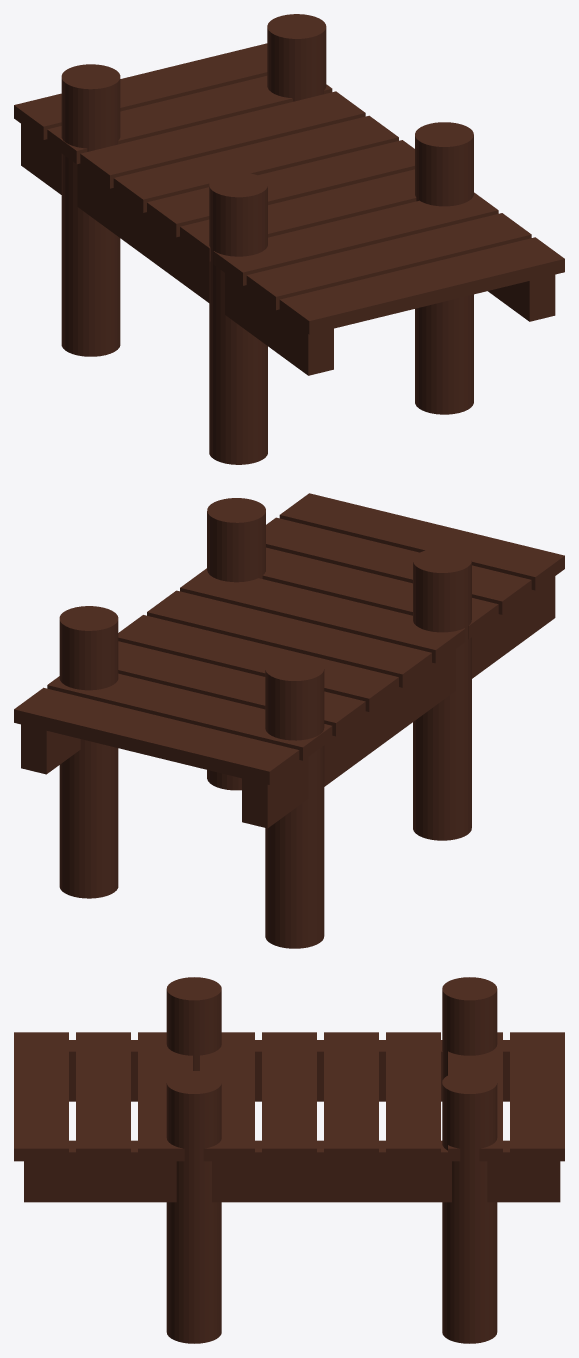
The model's file is Dock.fbx.
3 renders of one model, top to bottom at view 1: azimuth 30°, elevation 25°; view 2: azimuth 150°, elevation 25°; view 3: azimuth 270°, elevation 25°, orthographic. The views are drawn at different scales.
Visible parts, largest first — view 1: Dock; view 2: Dock; view 3: Dock.
Boxes of the visible parts, x1=… form: Dock: x1=14, y1=14, x2=564, y2=464; Dock: x1=14, y1=493, x2=564, y2=948; Dock: x1=14, y1=977, x2=564, y2=1343.
Bounding box in the file's own units: 201 × 200 × 400.
